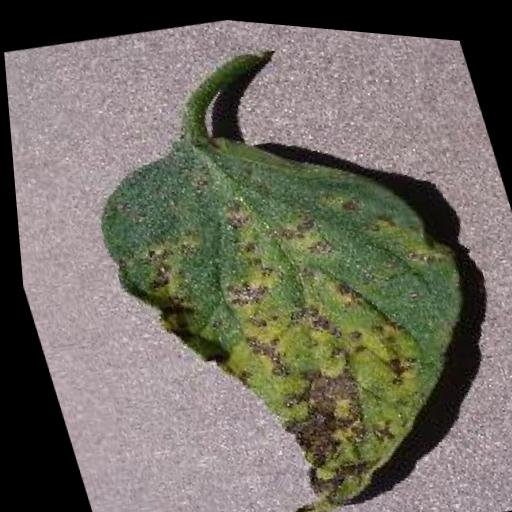Septoria: (69, 80, 512, 512)
